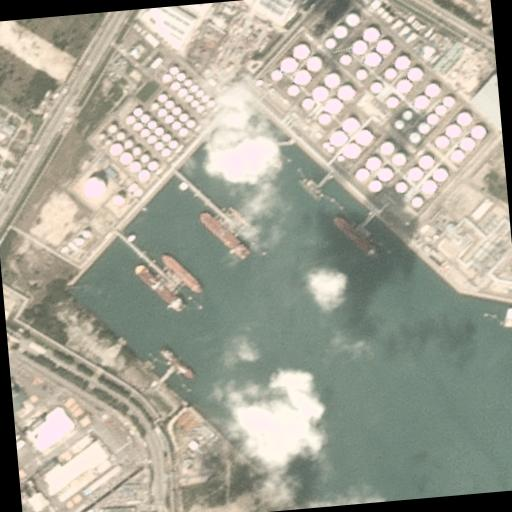ship: (202, 363, 333, 477), (199, 208, 251, 262), (132, 260, 182, 316), (330, 211, 380, 261), (159, 250, 202, 298), (216, 330, 263, 370), (158, 345, 194, 382), (348, 331, 349, 363), (300, 288, 350, 288)
